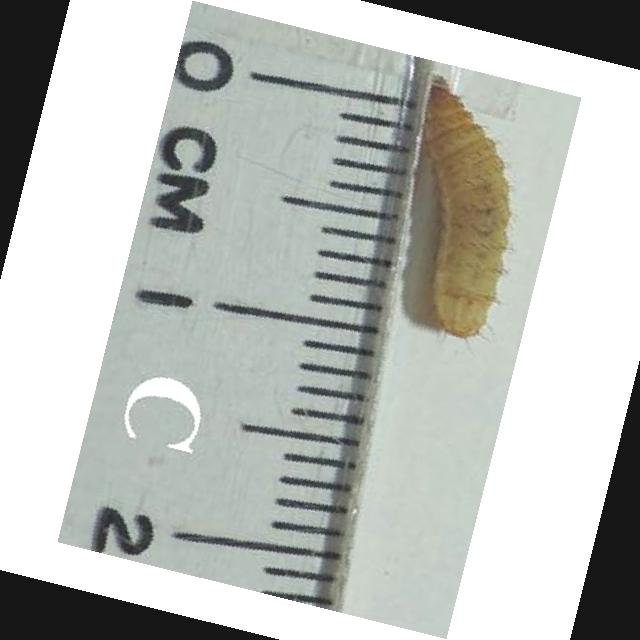Maggot: (420, 76, 516, 337)
